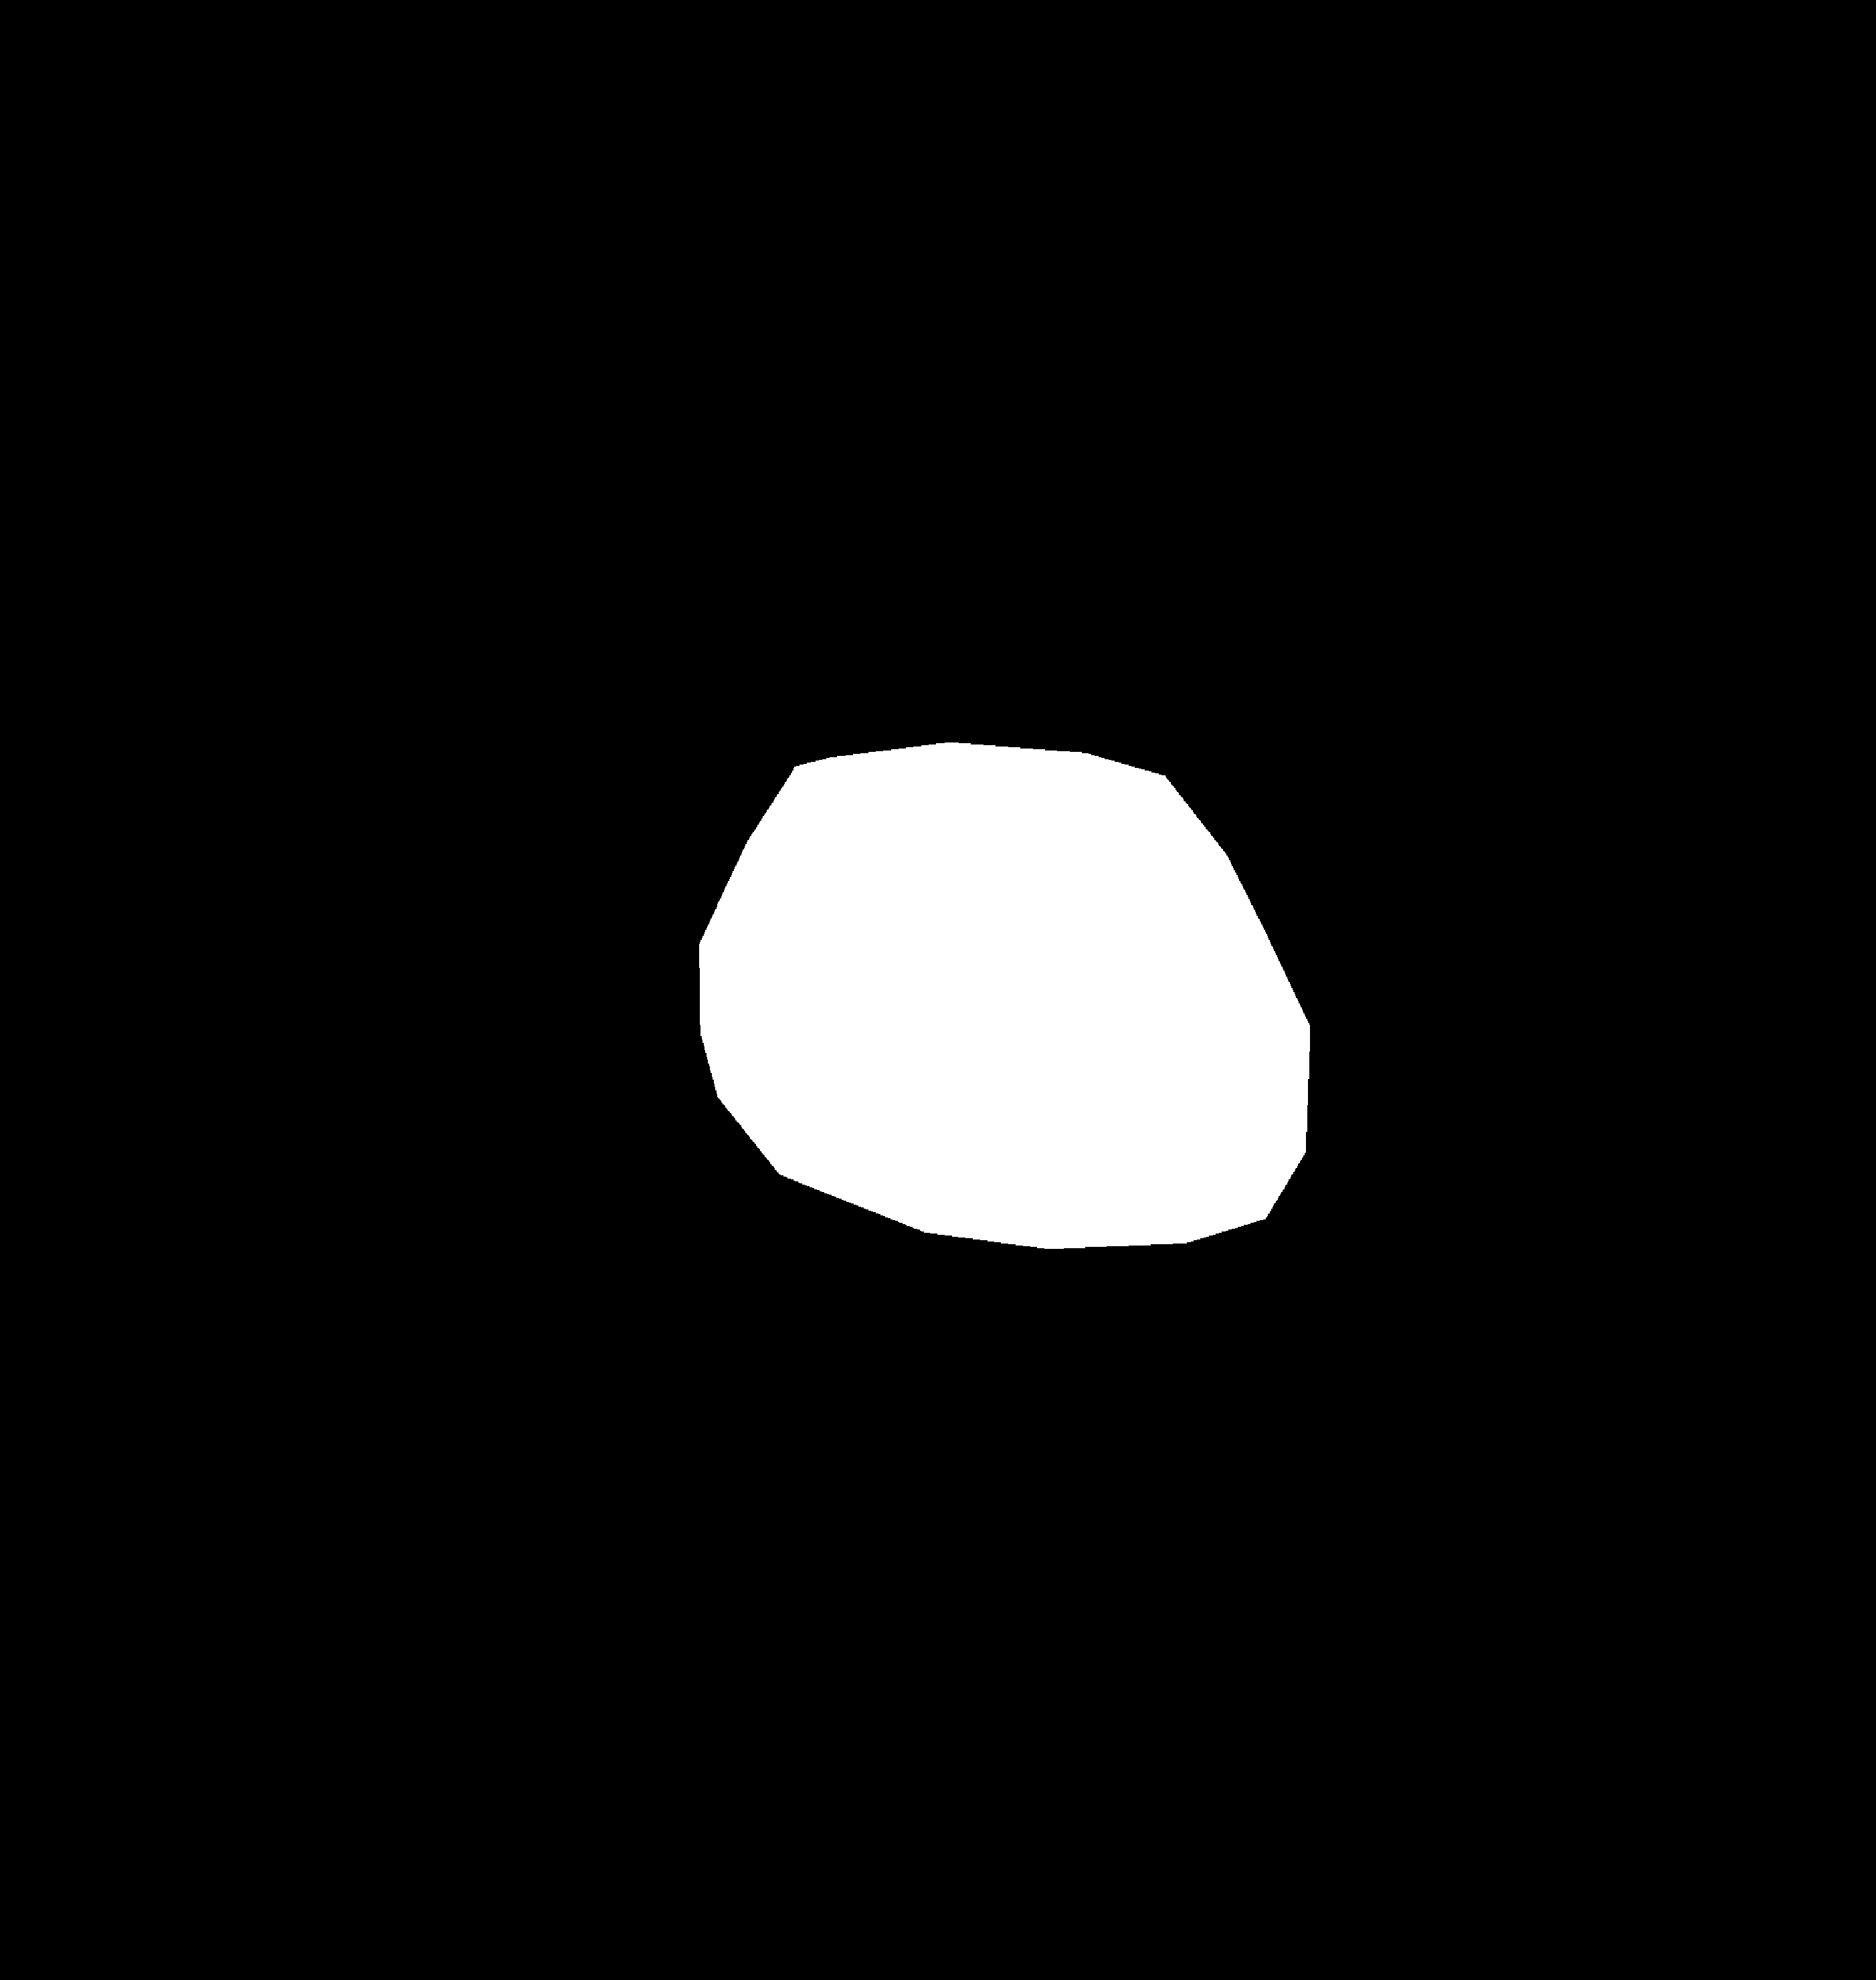heart: (705, 829, 1252, 1229)
left_lung: (277, 319, 866, 1375)
right_lung: (1058, 249, 1629, 1301)
